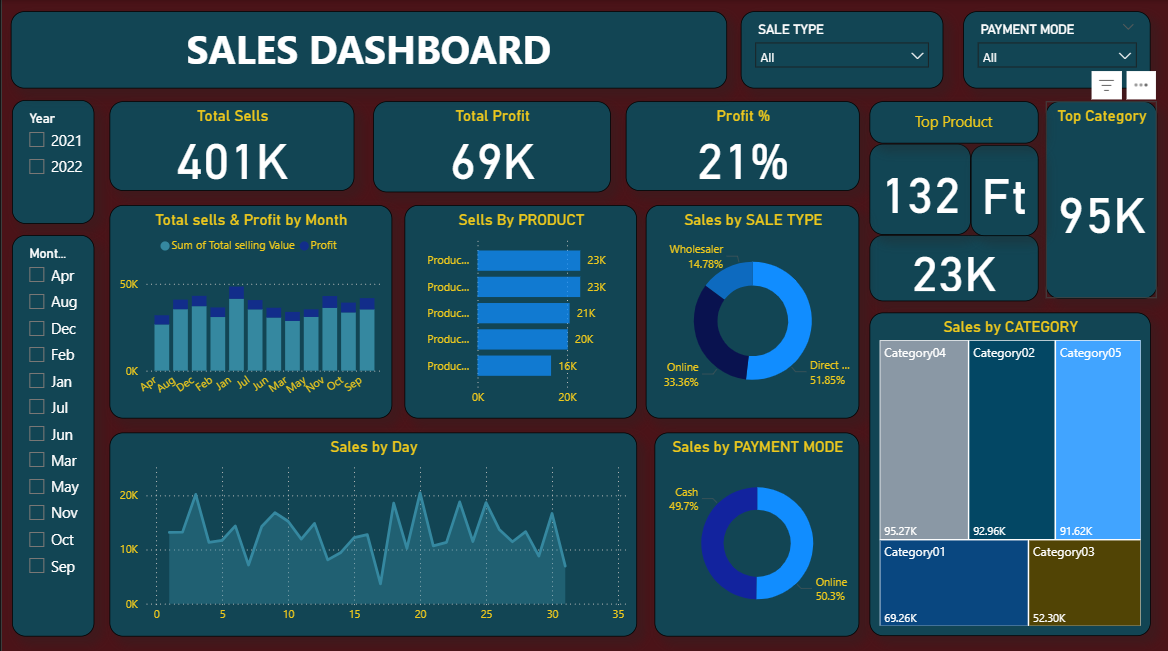

Layout of this report page (visuals, bound fields, positions):
{"tool":"powerbi","page":{"name":"Page 1","canvas":[1280,720],"ordinal":0},"visuals":[{"type":"slicer","fields":{"Values":["InputData.Year"]},"box":[11,109.8,90.6,135.8],"z":0},{"type":"slicer","fields":{"Values":["InputData.SALE TYPE"]},"box":[811,12.3,222.3,85.1],"z":1000},{"type":"slicer","fields":{"Values":["InputData.PAYMENT MODE"]},"box":[1055.2,12.3,205.8,85.1],"z":2000},{"type":"slicer","fields":{"Values":["InputData.Month Name"]},"box":[11,258,90.6,440.5],"z":3000},{"type":"card","title":"Total Sells","fields":{"Values":["Sum(InputData.Total selling Value)"]},"box":[118,111.1,269,98.8],"z":4000},{"type":"card","title":"Total Profit","fields":{"Values":["InputData.Profit"]},"box":[407.5,111.1,260.7,100.2],"z":5000},{"type":"card","title":"Profit %","fields":{"Values":["InputData.Profit %"]},"box":[684.7,111.1,256.6,98.8],"z":6000},{"type":"card","title":"Total Selling Value","fields":{"Values":["Sum(InputData.Total selling Value)"]},"box":[952.3,258,185.2,72.7],"z":7000},{"type":"card","title":"Top Category","fields":{"Values":["Sum(InputData.Total selling Value)"]},"box":[1145.8,111.1,122.1,216.8],"z":8000},{"type":"card","title":"Total Quantity","fields":{"Values":["Sum(InputData.QUANTITY)"]},"box":[952.3,157.8,111.1,100.2],"z":9000},{"type":"card","title":"UOM","fields":{"Values":["Min(InputData.MasterData.UOM)"]},"box":[1063.5,159.2,74.1,100.2],"z":10000},{"type":"columnChart","title":"Total sells & Profit by Month","fields":{"Category":["InputData.Month Name"],"Y":["Sum(InputData.Total selling Value)","InputData.Profit"]},"box":[118,225,310.1,234.6],"z":11000},{"type":"clusteredBarChart","title":"Sells By PRODUCT","fields":{"Category":["InputData.MasterData.PRODUCT"],"Y":["Sum(InputData.Total selling Value)"]},"box":[441.9,225,255.2,234.6],"z":11001},{"type":"areaChart","title":"Sales by Day","fields":{"Category":["InputData.Day"],"Y":["Sum(InputData.Total selling Value)"]},"box":[118,474.8,579.1,223.7],"z":11002},{"type":"donutChart","title":"Sales by SALE TYPE","fields":{"Category":["InputData.SALE TYPE"],"Y":["Sum(InputData.Total selling Value)"]},"box":[706.7,225,234.6,234.6],"z":11003},{"type":"donutChart","title":"Sales by PAYMENT MODE","fields":{"Y":["Sum(InputData.Total selling Value)"],"Category":["InputData.PAYMENT MODE"]},"box":[716.3,474.8,225,223.7],"z":11004},{"type":"treemap","title":"Sales by CATEGORY","fields":{"Group":["InputData.MasterData.CATEGORY"],"Values":["Sum(InputData.Total selling Value)"]},"box":[952.3,343.1,308.7,355.4],"z":11005},{"type":"textbox","box":[9.6,12.3,786.3,85.1],"z":11006},{"type":"textbox","box":[952.3,111.1,185.2,46.7],"z":11007}]}

Visuals, with their boxes in screenshot pixels (x1, y1, x2, y2), scaled from the page's 1280x720 canvas onto the 1168x651 screenshot:
slicer - InputData.Year: 10 99 93 222
slicer - InputData.SALE TYPE: 740 11 943 88
slicer - InputData.PAYMENT MODE: 963 11 1151 88
slicer - InputData.Month Name: 10 233 93 632
"Total Sells" card: 108 100 353 190
"Total Profit" card: 372 100 610 191
"Profit %" card: 625 100 859 190
"Total Selling Value" card: 869 233 1038 299
"Top Category" card: 1046 100 1157 296
"Total Quantity" card: 869 143 970 233
"UOM" card: 970 144 1038 235
"Total sells & Profit by Month" columnChart: 108 203 391 416
"Sells By PRODUCT" clusteredBarChart: 403 203 636 416
"Sales by Day" areaChart: 108 429 636 632
"Sales by SALE TYPE" donutChart: 645 203 859 416
"Sales by PAYMENT MODE" donutChart: 654 429 859 632
"Sales by CATEGORY" treemap: 869 310 1151 632
textbox: 9 11 726 88
textbox: 869 100 1038 143
